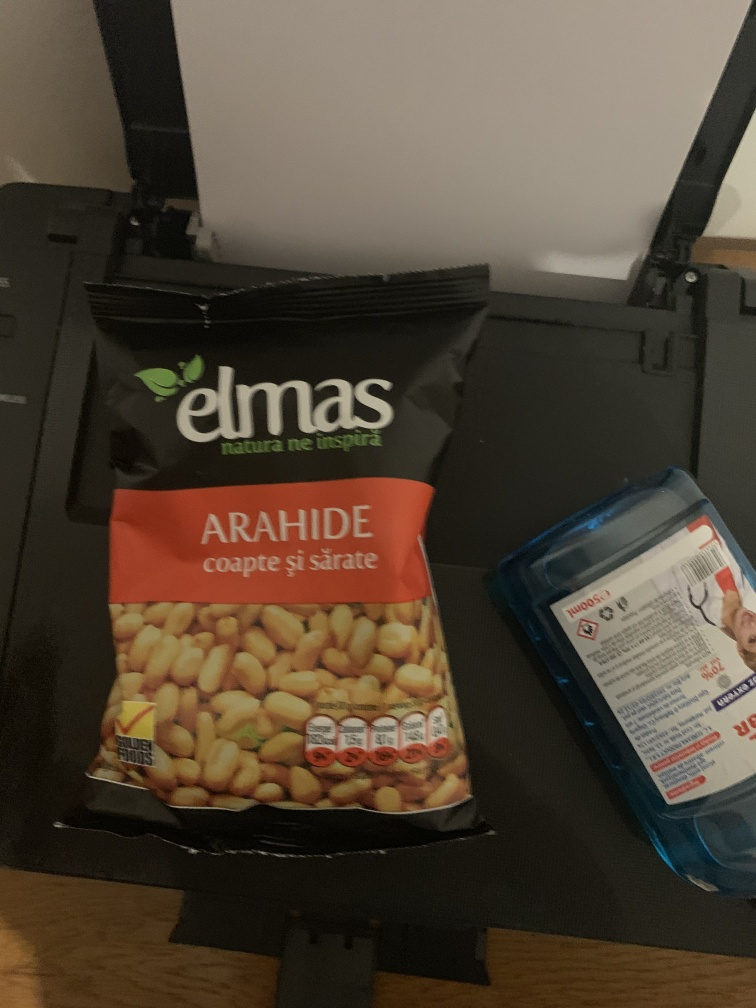peanuts: (70, 263, 503, 866)
